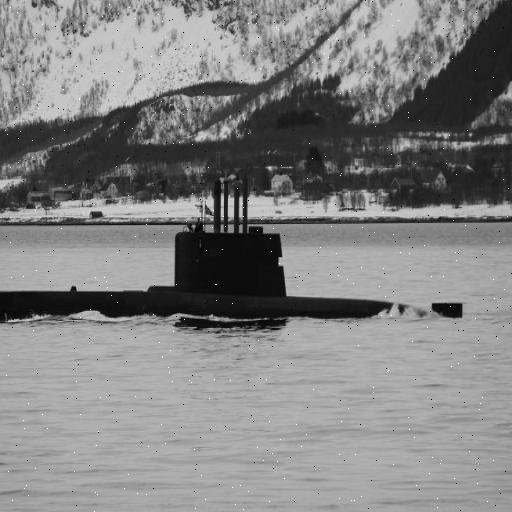submarine: (1, 168, 490, 325)
